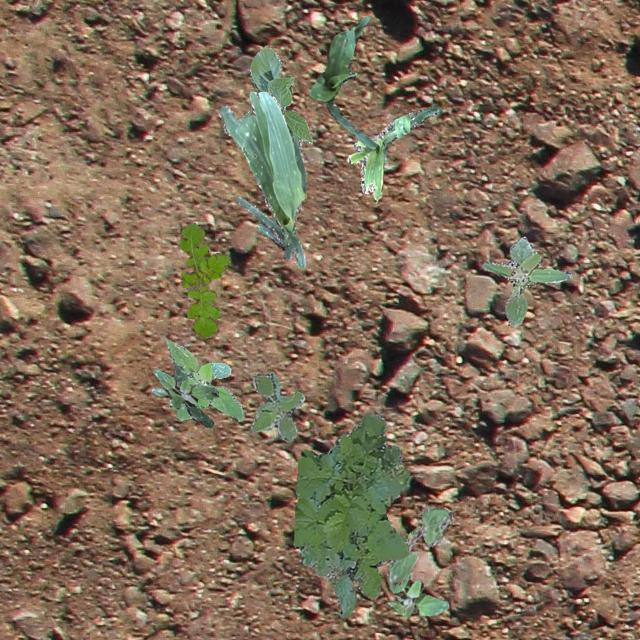crop: (218, 90, 306, 268), (346, 104, 440, 200), (308, 16, 376, 148), (240, 44, 312, 148), (388, 506, 452, 584)
weed: (292, 414, 408, 616), (480, 236, 570, 326), (165, 340, 242, 420), (178, 222, 228, 336), (150, 364, 217, 426), (250, 372, 304, 442), (387, 572, 448, 616)
